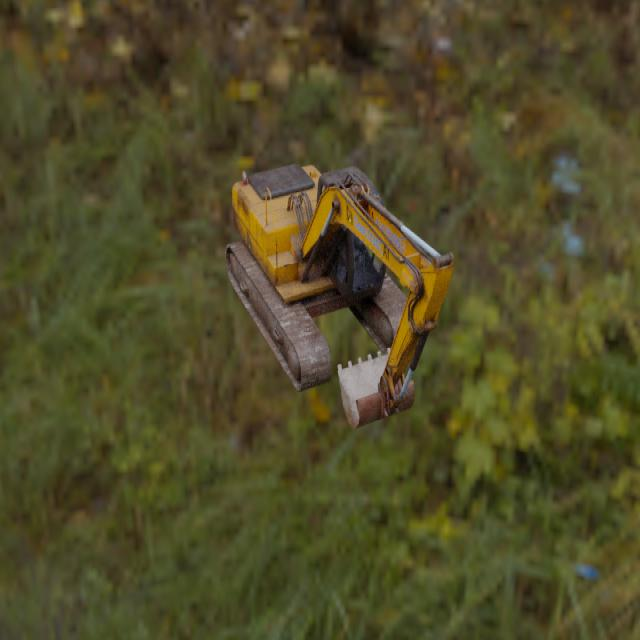excavator: (225, 163, 454, 428)
